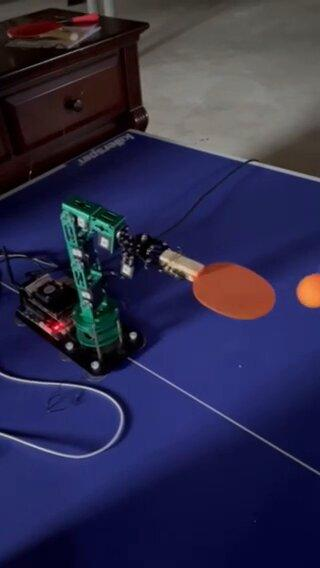oball: (298, 276, 319, 308)
